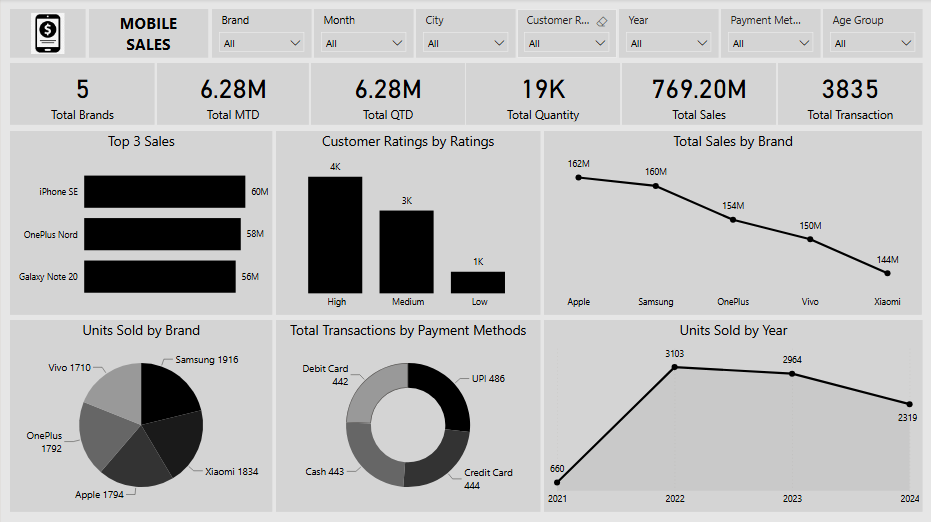

The page's visual inventory and layout, read from the dashboard file:
{"tool":"powerbi","page":{"name":"Page 1","canvas":[1280,720],"ordinal":0},"visuals":[{"type":"textbox","box":[121.8,13.4,163.9,67.2],"z":0},{"type":"card","fields":{"Values":["Sheet1.Total MTD"]},"box":[214.4,87.8,209.1,85.1],"z":1000,"group":"g2"},{"type":"columnChart","title":"Customer Ratings by Ratings","fields":{"Y":["Sum(Sheet1.Customer Ratings)"],"Category":["Sheet1.Ratings"]},"box":[378.8,181.8,363.6,253.4],"z":1000},{"type":"slicer","fields":{"Values":["Dim Date.Month"]},"box":[430.9,13.6,137.1,67.1],"z":2000,"group":"g1"},{"type":"card","fields":{"Values":["Sheet1.Total QTD"]},"box":[426.2,87.8,211.8,85.1],"z":2000,"group":"g2"},{"type":"pieChart","title":"Units Sold by Brand","fields":{"Category":["Sheet1.Brand"],"Y":["Sum(Sheet1.Units Sold)"]},"box":[12.5,442.4,360.9,264.2],"z":2000},{"type":"slicer","fields":{"Values":["Sheet1.City"]},"box":[570.9,13.6,137.1,67.1],"z":3000,"group":"g1"},{"type":"barChart","title":"Top 3 Sales","fields":{"Y":["Sheet1.Total Sales"],"Category":["Sheet1.Mobile Model"]},"box":[12.5,181.8,360.9,253.4],"z":3000},{"type":"slicer","fields":{"Values":["Sheet1.Customer Ratings"]},"box":[711,13.6,137.1,67.1],"z":4000,"group":"g1"},{"type":"card","fields":{"Values":["Sheet1.Total Transaction"]},"box":[1069.7,87.8,199.2,85.1],"z":4000,"group":"g2"},{"type":"lineChart","fields":{"Y":["Sheet1.Total Sales"],"Category":["Sheet1.Brand"]},"box":[747.8,181.8,520.3,253.4],"z":4000},{"type":"slicer","fields":{"Values":["Sheet1.Year"]},"box":[851,13.6,137.1,67.1],"z":5000,"group":"g1"},{"type":"donutChart","title":"Total Transactions by Payment Methods","fields":{"Category":["Sheet1.Payment Method"],"Y":["Sheet1.Total Transaction"]},"box":[378.8,442.4,363.6,264.2],"z":5000},{"type":"slicer","fields":{"Values":["Sheet1.Payment Method"]},"box":[991.1,13.6,137.1,67.1],"z":6000,"group":"g1"},{"type":"card","fields":{"Values":["Sheet1.Total Brands"]},"box":[12.5,87.8,199.2,85.1],"z":6000,"group":"g2"},{"type":"lineChart","title":"Units Sold by Year","fields":{"Y":["Sum(Sheet1.Units Sold)"],"Category":["Sheet1.Year"]},"box":[747.8,442.4,521.2,264.2],"z":6000},{"type":"group","id":"g1","title":"Group 2","box":[290.8,13.6,977.5,67.1],"z":7000},{"type":"image","box":[12.5,13.4,103.9,67.2],"z":8000},{"type":"slicer","fields":{"Values":["Sheet1.Age Group"]},"box":[1131.2,13.6,137.1,67.1],"z":8000,"group":"g1"},{"type":"card","fields":{"Values":["Sheet1.Total Quantity"]},"box":[640.7,87.8,211.8,85.1],"z":8000,"group":"g2"},{"type":"slicer","fields":{"Values":["Sheet1.Brand"]},"box":[290.8,13.6,137.1,67.1],"z":9000,"group":"g1"},{"type":"group","id":"g2","title":"Group 1","box":[12.5,87.8,1256.4,85.1],"z":9000},{"type":"card","fields":{"Values":["Sheet1.Total Sales"]},"box":[855.2,87.8,211.8,85.1],"z":10000,"group":"g2"}]}

Visuals, with their boxes in screenshot pixels (x1, y1, x2, y2), scaled from the page's 1280x720 canvas onto the 931x522 screenshot:
textbox: [89, 10, 208, 58]
card - Sheet1.Total MTD: [156, 64, 308, 125]
"Customer Ratings by Ratings" columnChart: [276, 132, 540, 316]
slicer - Dim Date.Month: [313, 10, 413, 59]
card - Sheet1.Total QTD: [310, 64, 464, 125]
"Units Sold by Brand" pieChart: [9, 321, 272, 512]
slicer - Sheet1.City: [415, 10, 515, 59]
"Top 3 Sales" barChart: [9, 132, 272, 316]
slicer - Sheet1.Customer Ratings: [517, 10, 617, 59]
card - Sheet1.Total Transaction: [778, 64, 923, 125]
lineChart - Sheet1.Total Sales x Sheet1.Brand: [544, 132, 922, 316]
slicer - Sheet1.Year: [619, 10, 719, 59]
"Total Transactions by Payment Methods" donutChart: [276, 321, 540, 512]
slicer - Sheet1.Payment Method: [721, 10, 821, 59]
card - Sheet1.Total Brands: [9, 64, 154, 125]
"Units Sold by Year" lineChart: [544, 321, 923, 512]
"Group 2" group: [212, 10, 922, 59]
image: [9, 10, 85, 58]
slicer - Sheet1.Age Group: [823, 10, 922, 59]
card - Sheet1.Total Quantity: [466, 64, 620, 125]
slicer - Sheet1.Brand: [212, 10, 311, 59]
"Group 1" group: [9, 64, 923, 125]
card - Sheet1.Total Sales: [622, 64, 776, 125]
